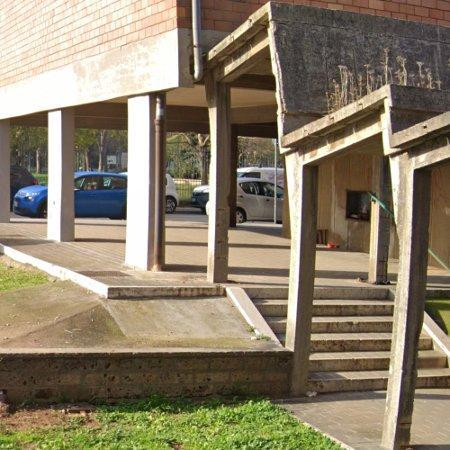stairs: (309, 287, 395, 394), (250, 289, 287, 339), (417, 336, 450, 390)
